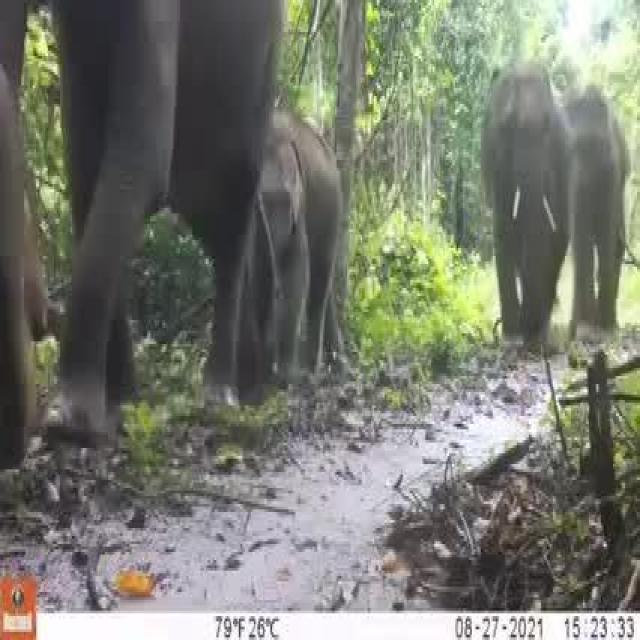Elephant: (6, 0, 286, 425), (236, 88, 354, 355), (482, 48, 568, 317), (565, 72, 632, 307)
